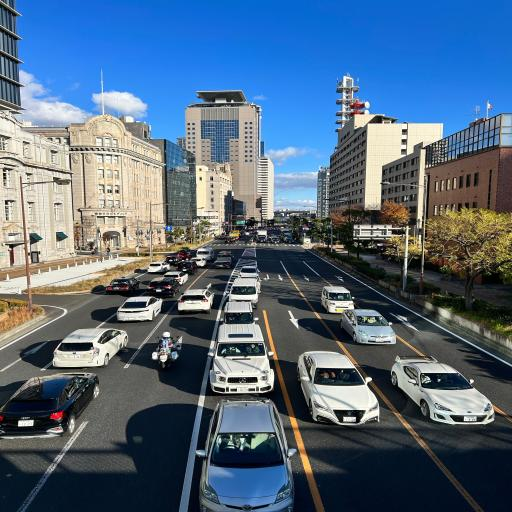bike: (152, 336, 182, 370)
car: (196, 397, 296, 511), (392, 357, 494, 424), (0, 373, 99, 438), (298, 352, 379, 425), (209, 324, 274, 393), (53, 329, 128, 367), (341, 310, 396, 344), (117, 296, 162, 322), (178, 285, 214, 313), (229, 278, 259, 309), (321, 286, 354, 312), (220, 302, 258, 324), (147, 276, 180, 297), (239, 266, 261, 292), (106, 278, 140, 293), (165, 271, 188, 285), (177, 260, 197, 275), (148, 260, 170, 273), (196, 248, 215, 261), (239, 266, 259, 277), (214, 256, 232, 268), (178, 250, 193, 261), (166, 256, 181, 266), (217, 251, 233, 260), (191, 257, 206, 266), (268, 236, 279, 243), (283, 236, 293, 243), (224, 237, 234, 243), (240, 231, 246, 236), (218, 235, 225, 239)
